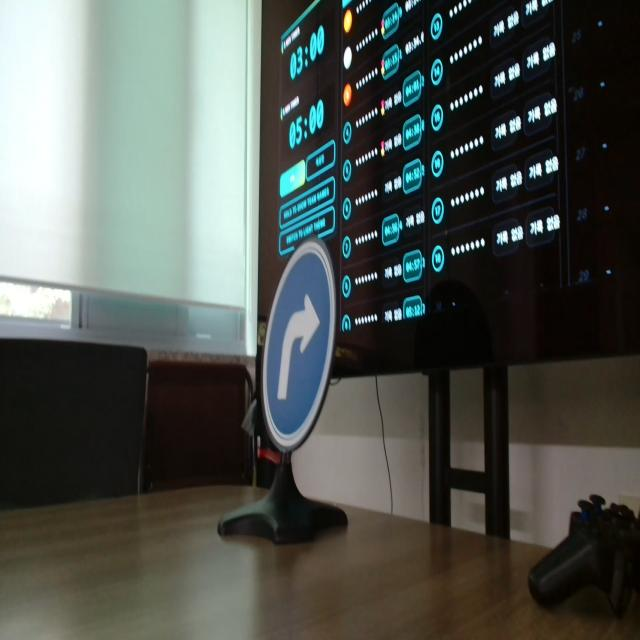right_dierection: (256, 237, 336, 450)
